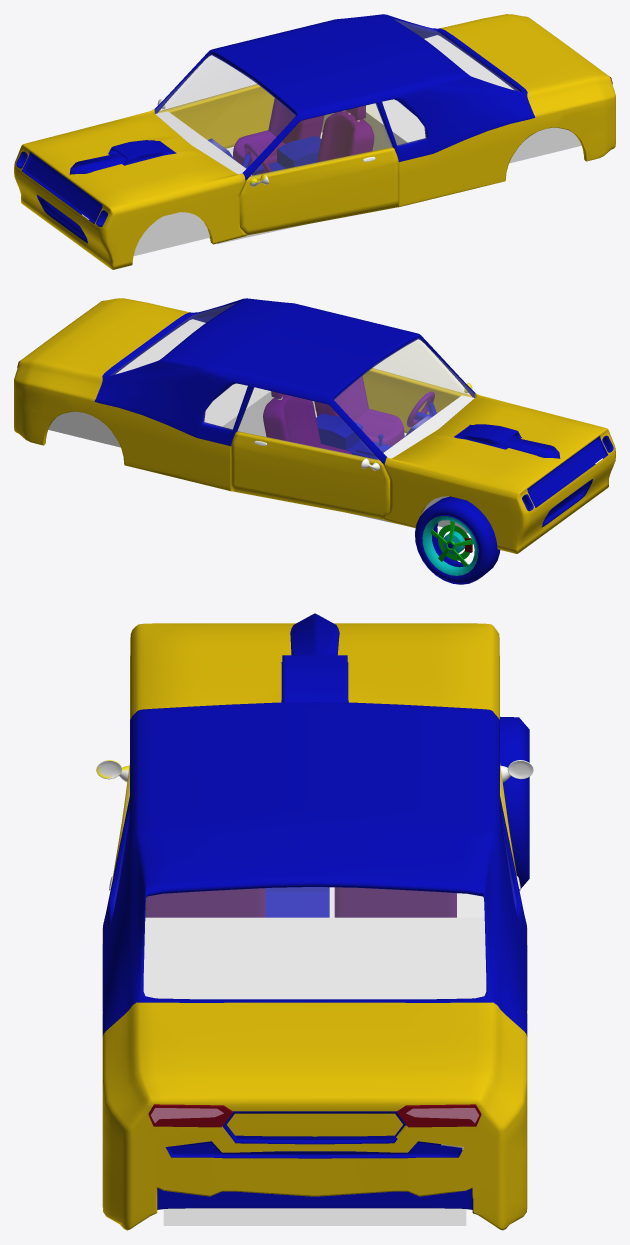
File: backupprefin555353353535.fbx
The picture shows the model from 3 angles, top to bottom: view 1: azimuth 30°, elevation 25°; view 2: azimuth 150°, elevation 25°; view 3: azimuth 270°, elevation 25°; orthographic projection. The views are drawn at different scales.
Parts seen in each view (by area): view 1: CarBase, CarDoorLeft, FrontGlassWindow, CarDoorRight, BackSeatFiller, LeftSeat, RightSeat, FrontWheelFiller, BackGlassWindow, BackWheelFiller, ManualBox, FrontElecticBox (+3 smaller); view 2: CarBase, CarDoorRight, FrontGlassWindow, Wheel, CarDoorLeft, BackSeatFiller, RightSeat, LeftSeat, ManualBox, BackGlassWindow, BackWheelFiller, FrontElecticBox (+3 smaller); view 3: CarBase, BackGlassWindow, BackSeatFiller, BackWheelFiller, RightSeat, Wheel, LeftSeat, ManualBox, BackLightLeft, BackLightRight, CarTopFrontDetail, CarDoorLeft (+2 smaller).
Part boxes in pixels (bbox=[...]): CarBase: bbox=[14, 14, 615, 269]; CarDoorLeft: bbox=[240, 103, 398, 235]; FrontGlassWindow: bbox=[154, 54, 295, 173]; CarDoorRight: bbox=[157, 56, 274, 148]; BackSeatFiller: bbox=[321, 35, 514, 150]; LeftSeat: bbox=[317, 105, 374, 162]; RightSeat: bbox=[233, 98, 324, 165]; FrontWheelFiller: bbox=[133, 212, 209, 255]; BackGlassWindow: bbox=[394, 19, 518, 90]; BackWheelFiller: bbox=[509, 127, 581, 163]; ManualBox: bbox=[208, 135, 321, 175]; FrontElecticBox: bbox=[155, 111, 251, 175]; CarBase: bbox=[14, 298, 615, 553]; CarDoorRight: bbox=[231, 388, 389, 519]; FrontGlassWindow: bbox=[334, 339, 475, 457]; Wheel: bbox=[415, 496, 500, 584]; CarDoorLeft: bbox=[362, 340, 472, 433]; BackSeatFiller: bbox=[115, 319, 315, 436]; RightSeat: bbox=[263, 391, 351, 454]; LeftSeat: bbox=[314, 376, 404, 445]; ManualBox: bbox=[316, 413, 431, 459]; BackGlassWindow: bbox=[111, 304, 233, 374]; BackWheelFiller: bbox=[48, 411, 120, 447]; FrontElecticBox: bbox=[378, 395, 474, 459]; CarBase: bbox=[102, 623, 527, 1230]; BackGlassWindow: bbox=[144, 887, 485, 998]; BackSeatFiller: bbox=[143, 917, 486, 999]; BackWheelFiller: bbox=[163, 1208, 466, 1225]; RightSeat: bbox=[334, 887, 456, 917]; Wheel: bbox=[500, 716, 529, 890]; LeftSeat: bbox=[145, 888, 265, 917]; ManualBox: bbox=[265, 887, 329, 917]; BackLightLeft: bbox=[148, 1104, 232, 1127]; BackLightRight: bbox=[397, 1104, 481, 1127]; CarTopFrontDetail: bbox=[290, 613, 339, 655]; CarDoorLeft: bbox=[96, 760, 129, 890].
Size of the model in its own units: 693 by 198 by 256.
